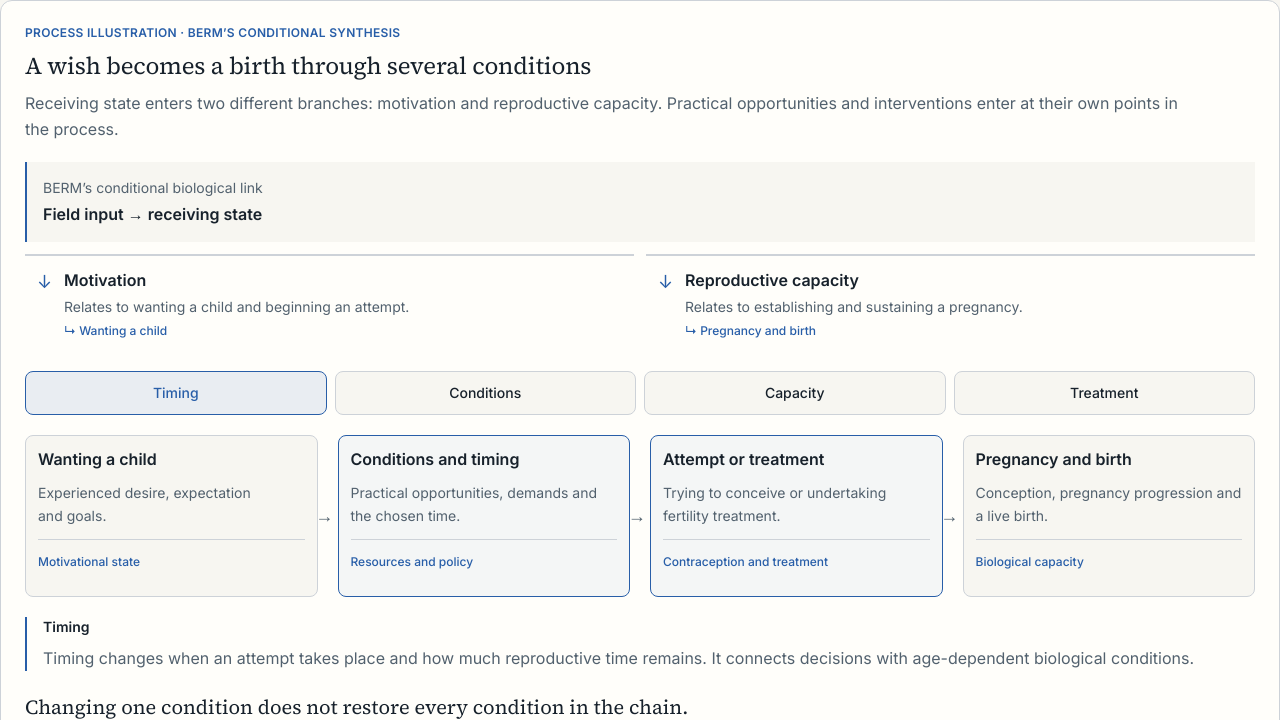
ProxyDemographicProcess › retains complete English controls and source context for ja
Click the button "Conditions". click: (485, 393)
box: [334, 371, 636, 415]
(page scrolled)
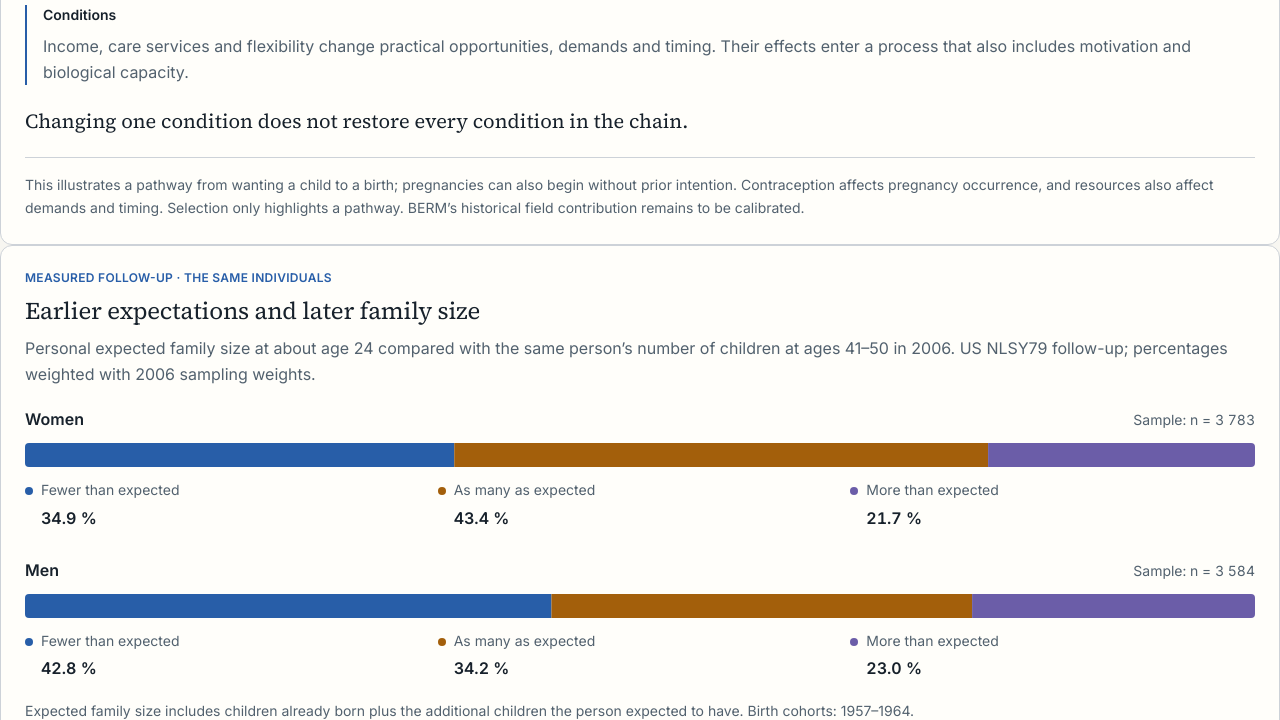
Check: the text "percentages weighted with 2006 sampling weights" is shown, box [25, 338, 1228, 384]
Check: the text "Income, care services and flexibility" is shown, box [43, 36, 1191, 82]
